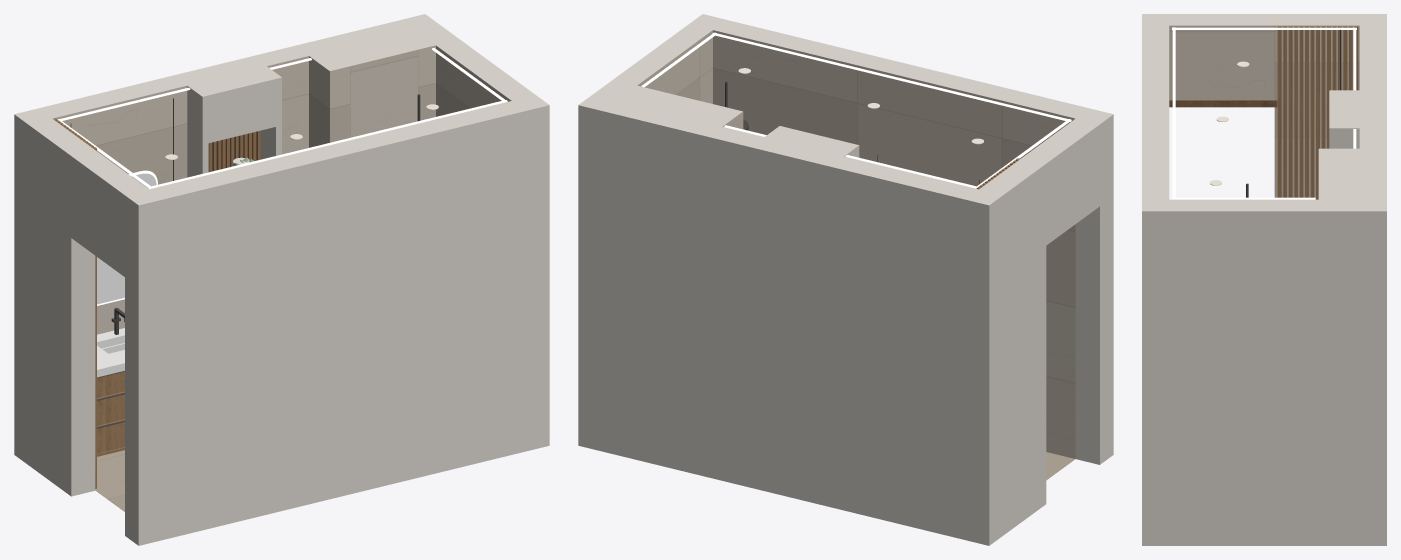
The model's file is banya.glb.
3 views of the same model, side by side, from view 1: azimuth 30°, elevation 25°; view 2: azimuth 150°, elevation 25°; view 3: azimuth 270°, elevation 25° (orthographic).
Size of the model in its own units: 3.41 by 2.7 by 1.79.
36 materials, 16 textured.
